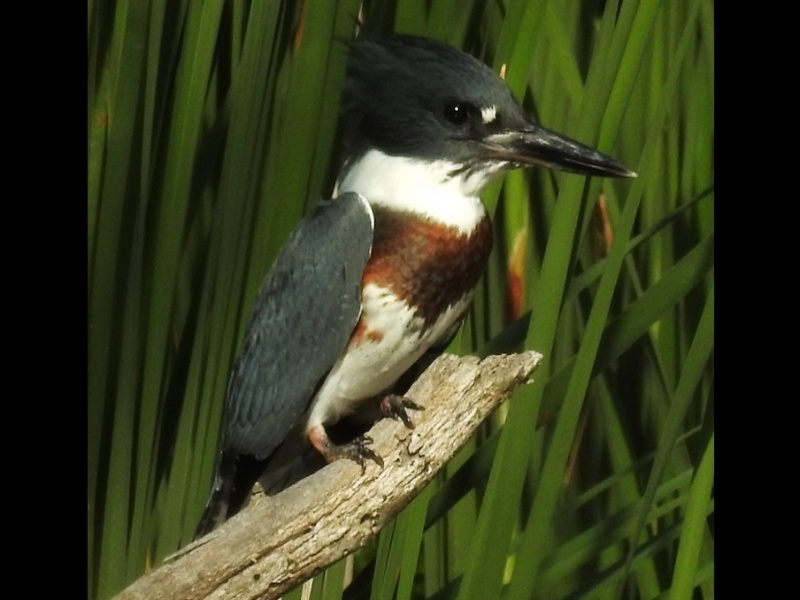kingfisher: (198, 11, 641, 519)
